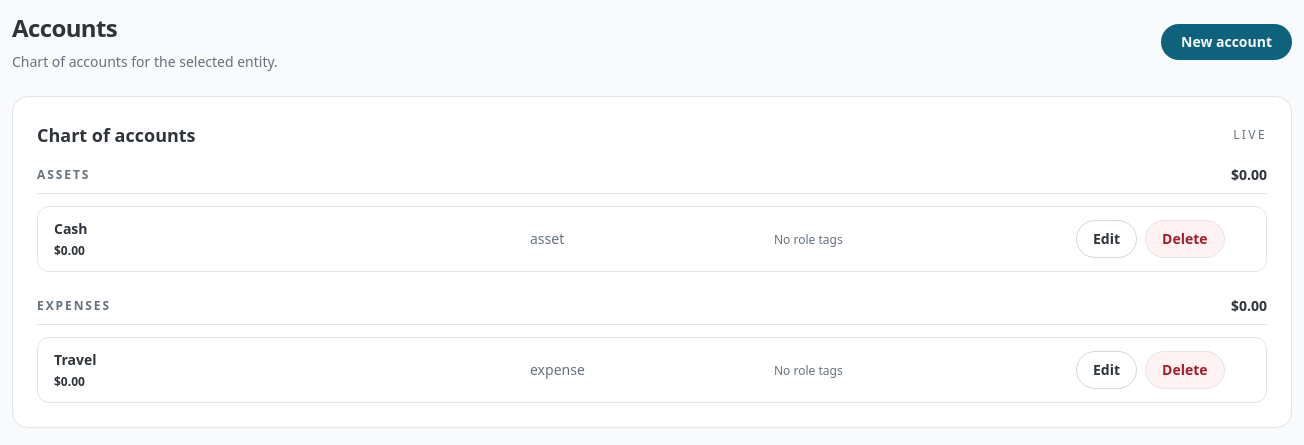
Scenario: Accounts page › deletes an account successfully
Expected: the text "Travel" is shown, [54,350,96,370]
Click the button "Delete" in the row of "Travel". click: (1185,370)
box: [1145,351,1225,389]
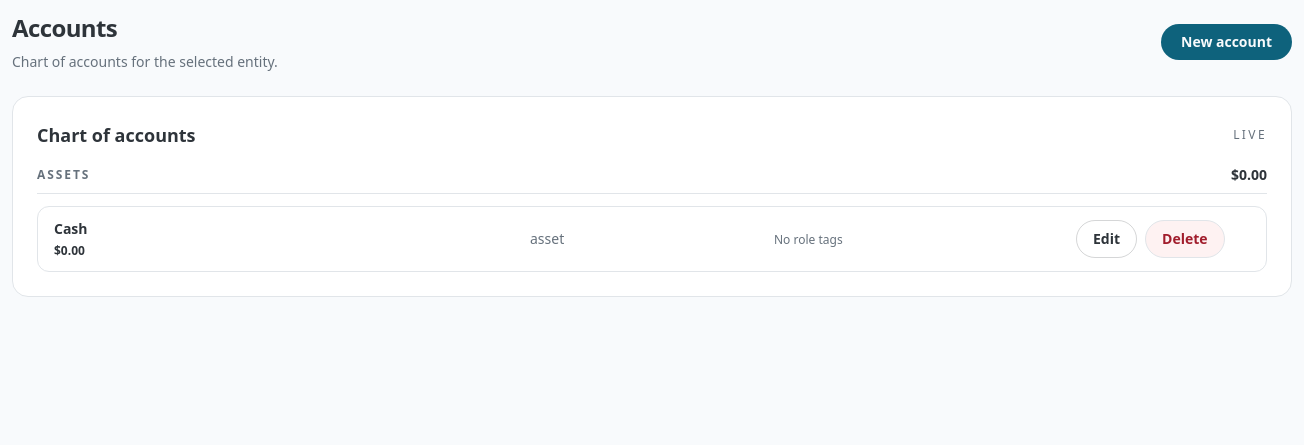
Expected: the link "Travel" is gone
